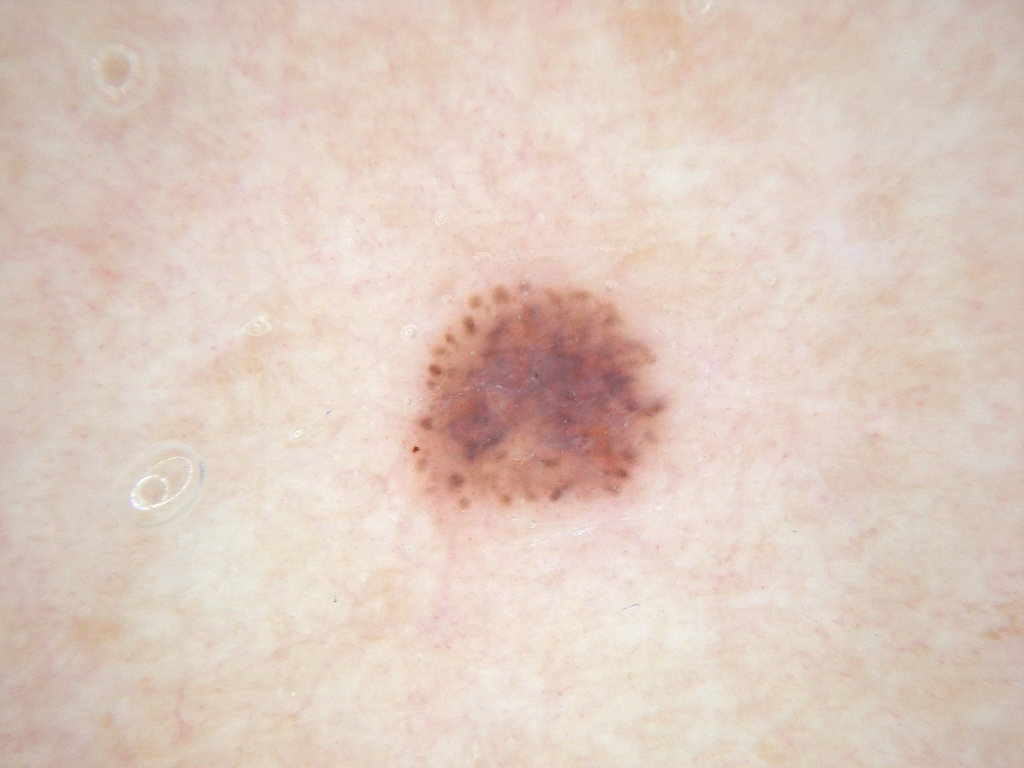Detected Lesion: (400, 270, 675, 521)
